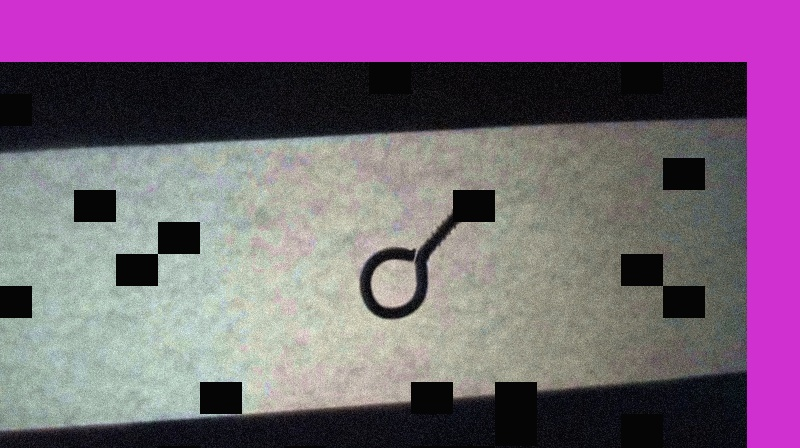O001: (357, 192, 473, 321)
